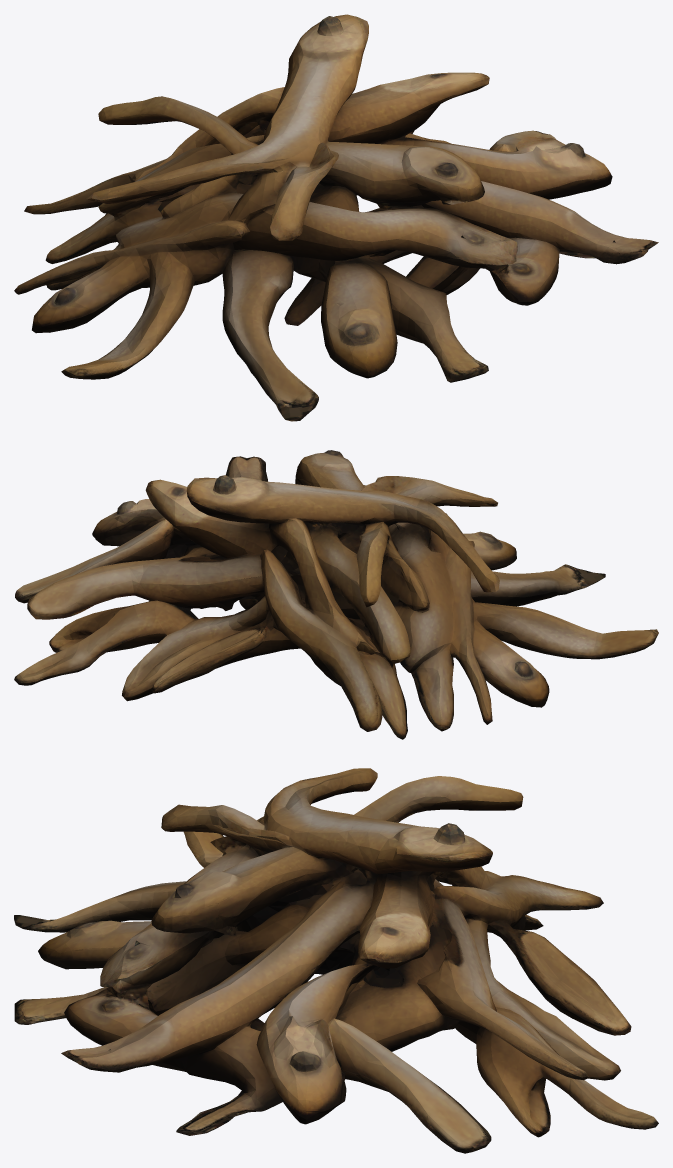
The model's file is ikanbilis.glb.
3 renders of one model, top to bottom at view 1: azimuth 30°, elevation 25°; view 2: azimuth 150°, elevation 25°; view 3: azimuth 270°, elevation 25°, orthographic. The views are drawn at different scales.
Parts seen in each view (by area): view 1: world; view 2: world; view 3: world.
Part boxes in pixels (x1,y1,x2,y2): world: (14, 14, 658, 421); world: (14, 450, 658, 739); world: (14, 768, 658, 1153).
Bounding box in the file's own units: 1 × 0.3399 × 0.8336.
Materials: 1 (1 with a texture image).
